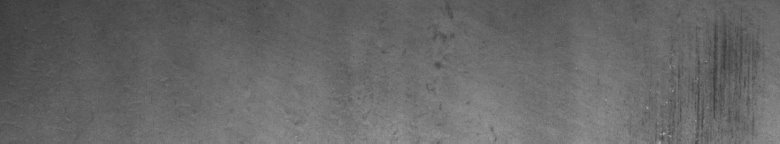ka: (655, 25, 760, 136)
